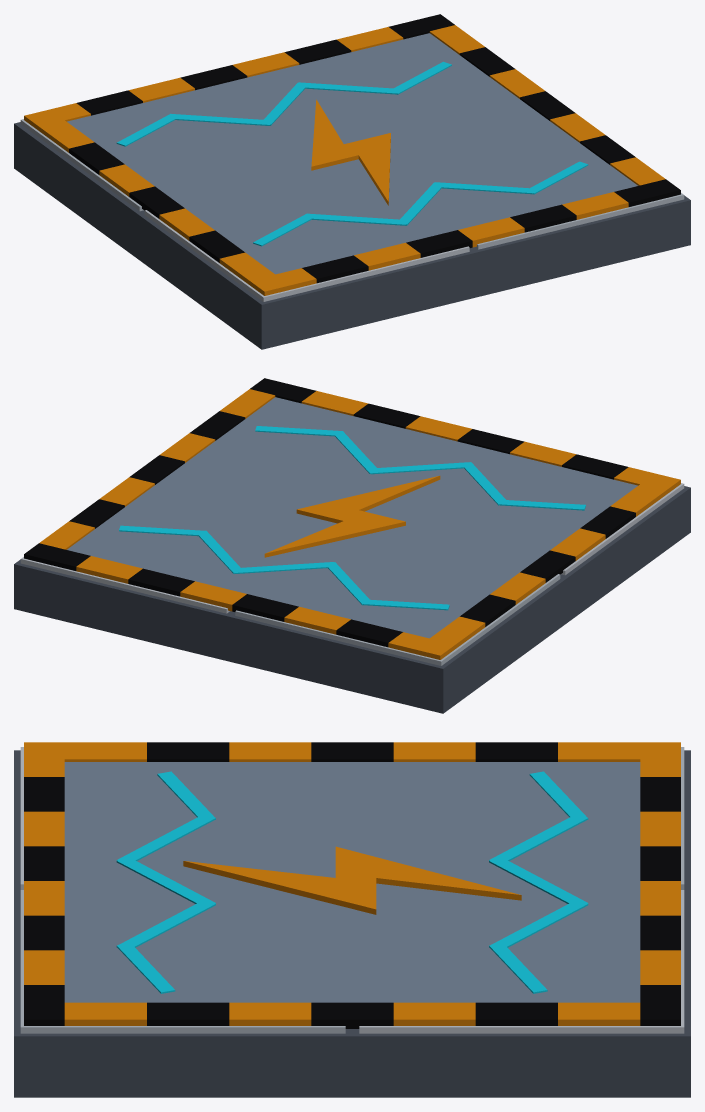
The model's file is SM_ElectricFloor_2x2.glb.
3 renders of one model, top to bottom at view 1: azimuth 30°, elevation 25°; view 2: azimuth 150°, elevation 25°; view 3: azimuth 270°, elevation 25°, orthographic. The views are drawn at different scales.
Parts seen in each view (by area): view 1: SM_ElectricFloor_2x2-col; view 2: SM_ElectricFloor_2x2-col; view 3: SM_ElectricFloor_2x2-col.
Boxes of the visible parts, <box> form: SM_ElectricFloor_2x2-col: <box>14,14,690,349</box>; SM_ElectricFloor_2x2-col: <box>14,378,690,713</box>; SM_ElectricFloor_2x2-col: <box>14,742,690,1097</box>.
Bounding box in the file's own units: 2 × 0.25 × 2.
